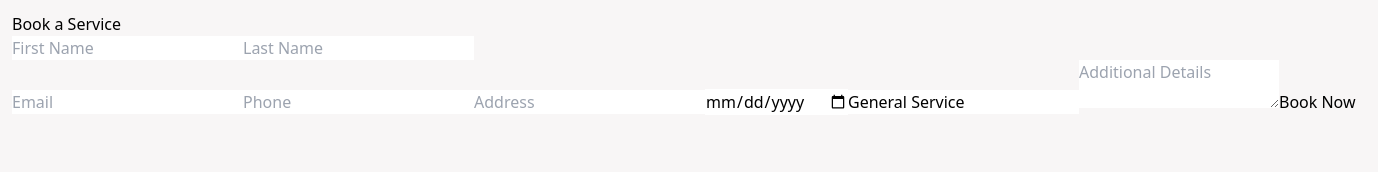
Test case: BookingModal › shows success state after successful submission
Fill required fields
In the field with placeholder "First Name": (128,48) [12,36,243,60], type "John"
In the field with placeholder "Last Name": (358,48) [243,36,474,60], type "Doe"
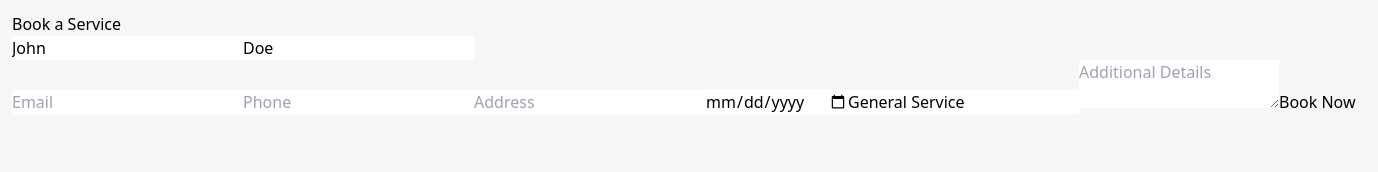
In the field with placeholder "Email": (128,102) [12,90,243,114], type "john@example.com"
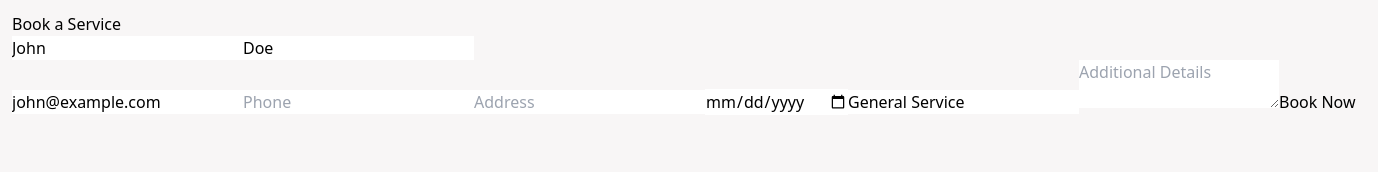
In the field with placeholder "Phone": (358,102) [243,90,474,114], type "1234567890"
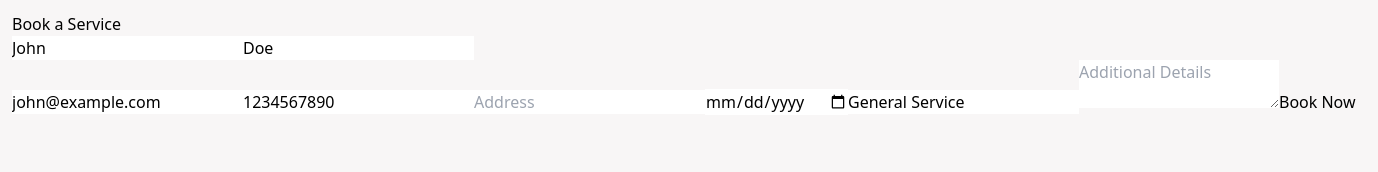
In the field with placeholder "Address": (590,102) [474,90,705,114], type "123 Main St"
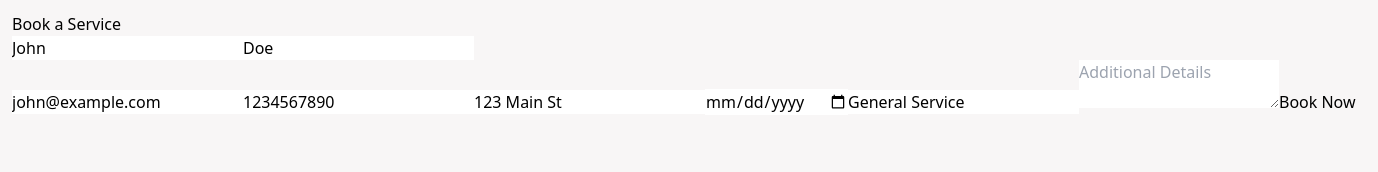
In the date field: (776,102) [705,89,848,115], type "2024-12-25"
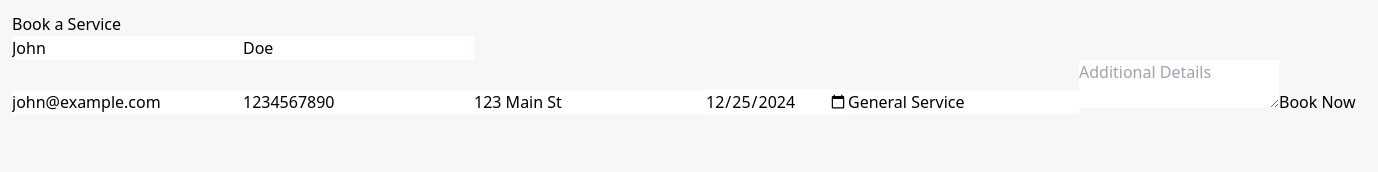
Submit the form, box [12,36,1377,115]
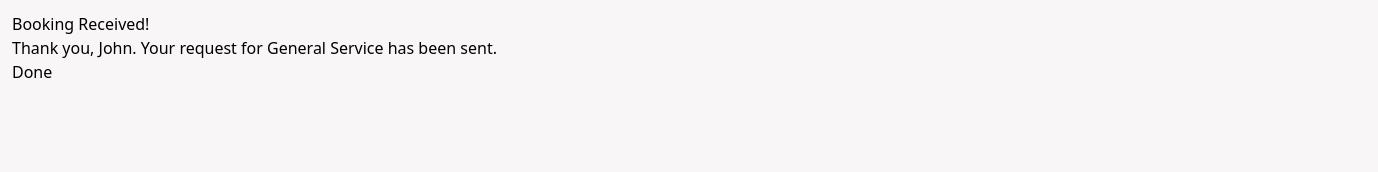
Check: the element with class "success" is shown, box [12,13,497,84]
